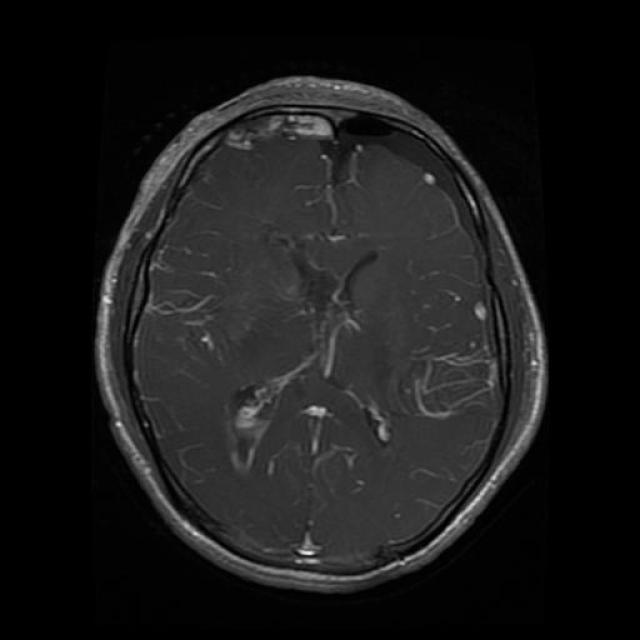glioma: (222, 230, 404, 475)
